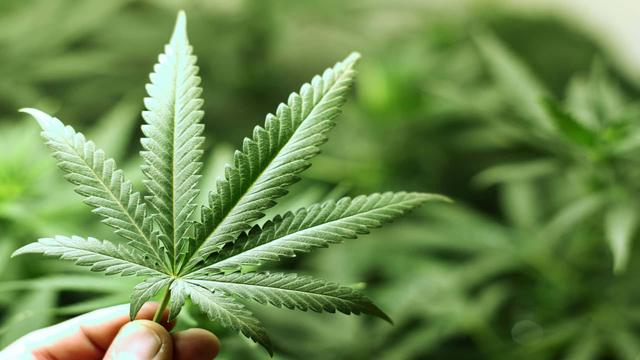Marijuana Bud: (13, 6, 460, 360)
